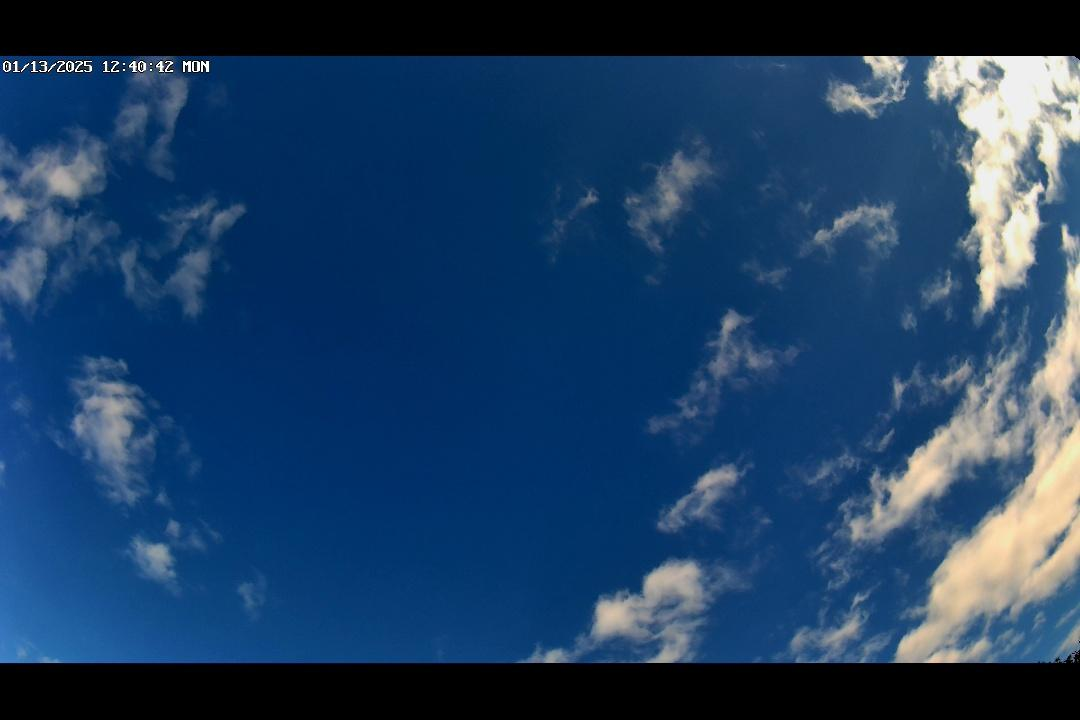WildLife: (992, 104, 1009, 122)
